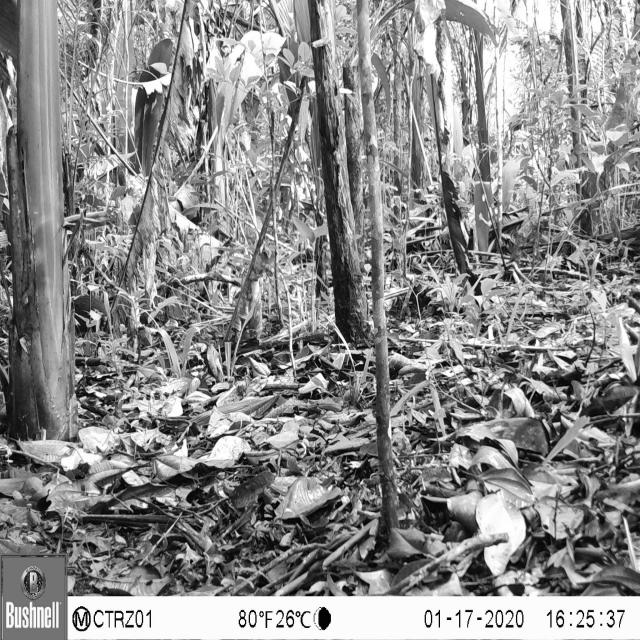Black Agouti: (68, 272, 125, 344)
